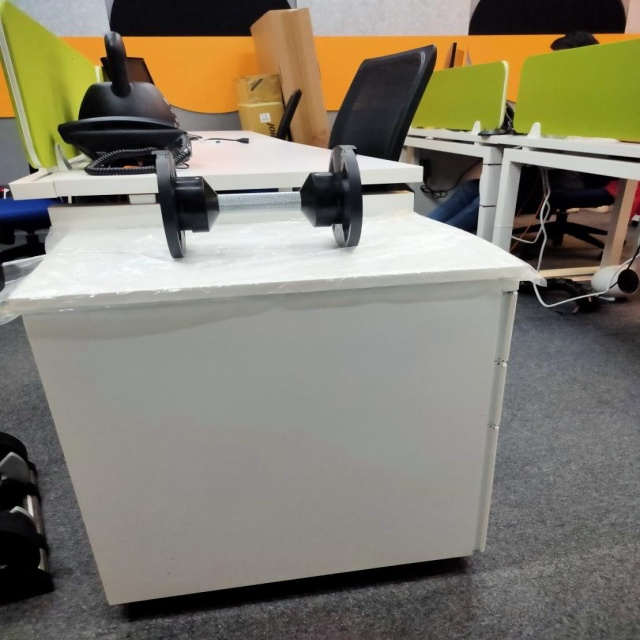01-2kg: (148, 144, 364, 257)
